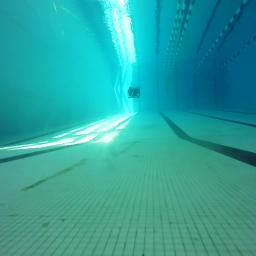Full: (128, 86, 140, 98)
